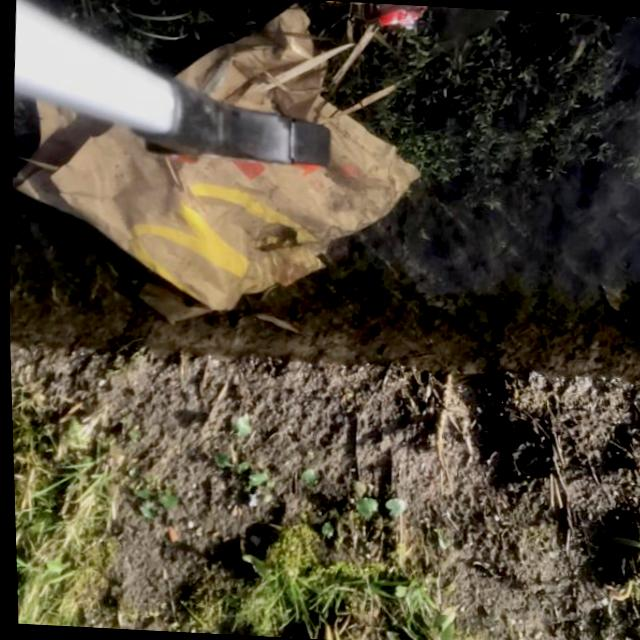Paper: (0, 0, 438, 341)
